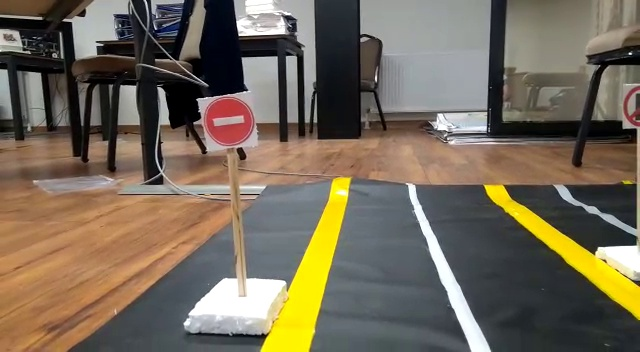girisi_olmayan_yol: (203, 94, 253, 149)
